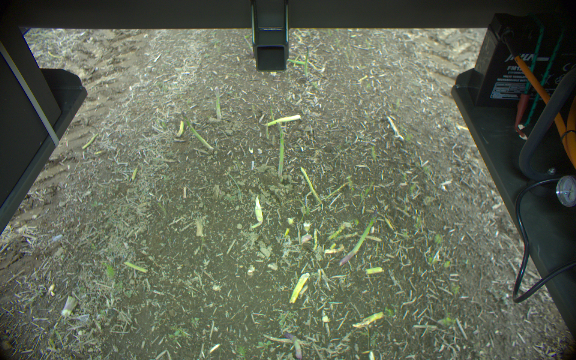aspa: (340, 208, 378, 267), (181, 113, 212, 151), (274, 124, 288, 180), (281, 330, 304, 360), (212, 83, 224, 119), (302, 44, 312, 78), (287, 54, 307, 67)
